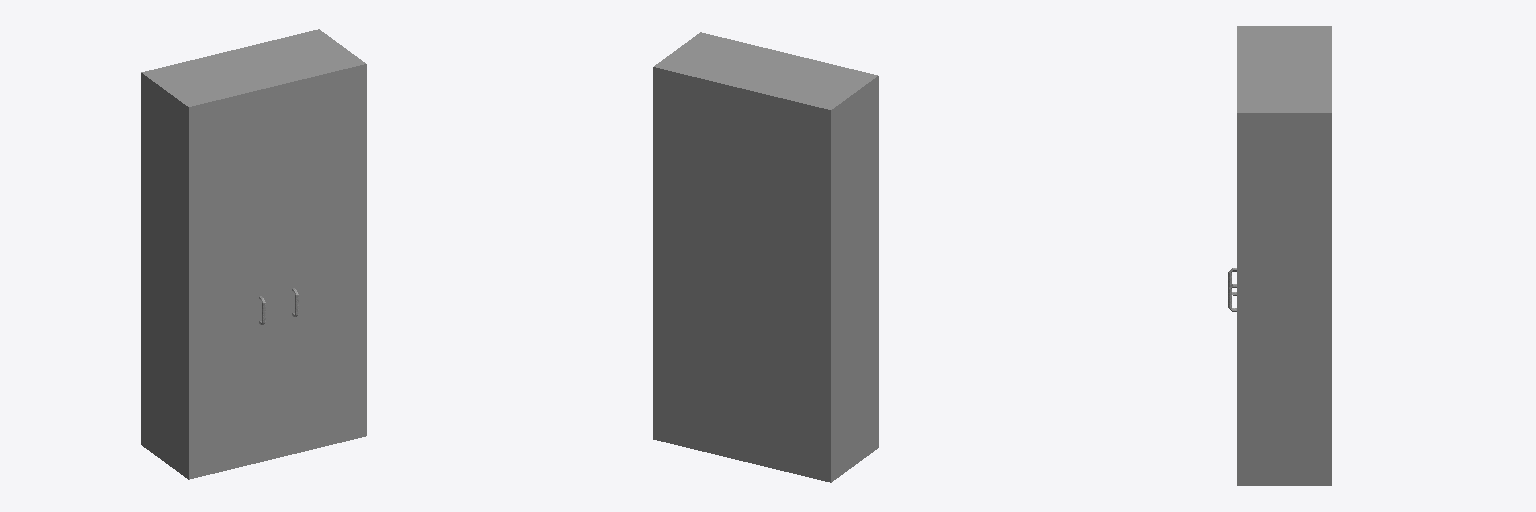
The picture shows the model from 3 angles: view 1: azimuth 30°, elevation 25°; view 2: azimuth 150°, elevation 25°; view 3: azimuth 270°, elevation 25°; orthographic projection.
Visible parts, largest first — view 1: Cube; view 2: Cube; view 3: Cube.
Boxes of the visible parts, x1=… form: Cube: x1=141, y1=29, x2=366, y2=479; Cube: x1=653, y1=32, x2=878, y2=482; Cube: x1=1237, y1=26, x2=1331, y2=485.
Size of the model in its own units: 3.72 by 7.44 by 1.87.
2 materials, 1 textured.